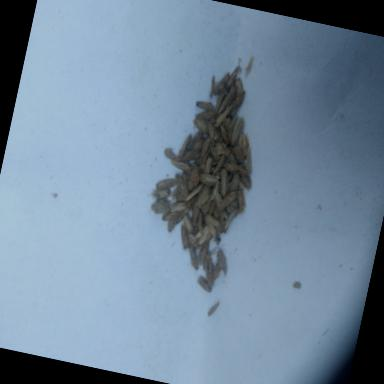pbw: (213, 101, 233, 130), (198, 260, 218, 288), (217, 188, 238, 214), (214, 168, 232, 198), (184, 244, 203, 271), (212, 70, 230, 98), (170, 172, 191, 196), (202, 120, 221, 146), (212, 248, 230, 275), (229, 116, 245, 146), (176, 132, 192, 162), (190, 114, 212, 135), (200, 213, 220, 236), (154, 175, 178, 193), (146, 185, 171, 202), (220, 161, 248, 176), (176, 226, 192, 252), (220, 208, 236, 234), (235, 134, 251, 160), (185, 181, 203, 204), (190, 224, 208, 246), (188, 162, 202, 190), (225, 64, 240, 90), (221, 146, 240, 166), (242, 148, 256, 175), (215, 124, 232, 146), (224, 114, 237, 142), (194, 274, 214, 292), (197, 171, 219, 187), (234, 189, 248, 213), (168, 159, 192, 173), (180, 214, 196, 235), (186, 164, 198, 191), (181, 148, 199, 166), (194, 184, 208, 207), (168, 200, 188, 216), (198, 136, 210, 162), (237, 174, 254, 192), (150, 198, 168, 215), (196, 107, 216, 122), (212, 90, 224, 115), (212, 154, 225, 177), (223, 84, 235, 108), (196, 242, 208, 266), (231, 89, 245, 109), (228, 172, 240, 194), (207, 180, 219, 202), (160, 208, 178, 222), (194, 100, 214, 112), (207, 300, 220, 318), (232, 77, 245, 95), (165, 213, 177, 232), (161, 146, 177, 160), (202, 154, 213, 174), (195, 210, 206, 230), (208, 146, 221, 162), (197, 230, 210, 246), (190, 204, 200, 224), (192, 137, 204, 153), (212, 262, 222, 280), (212, 190, 222, 207), (207, 198, 216, 214), (212, 204, 220, 220), (220, 208, 230, 220)
